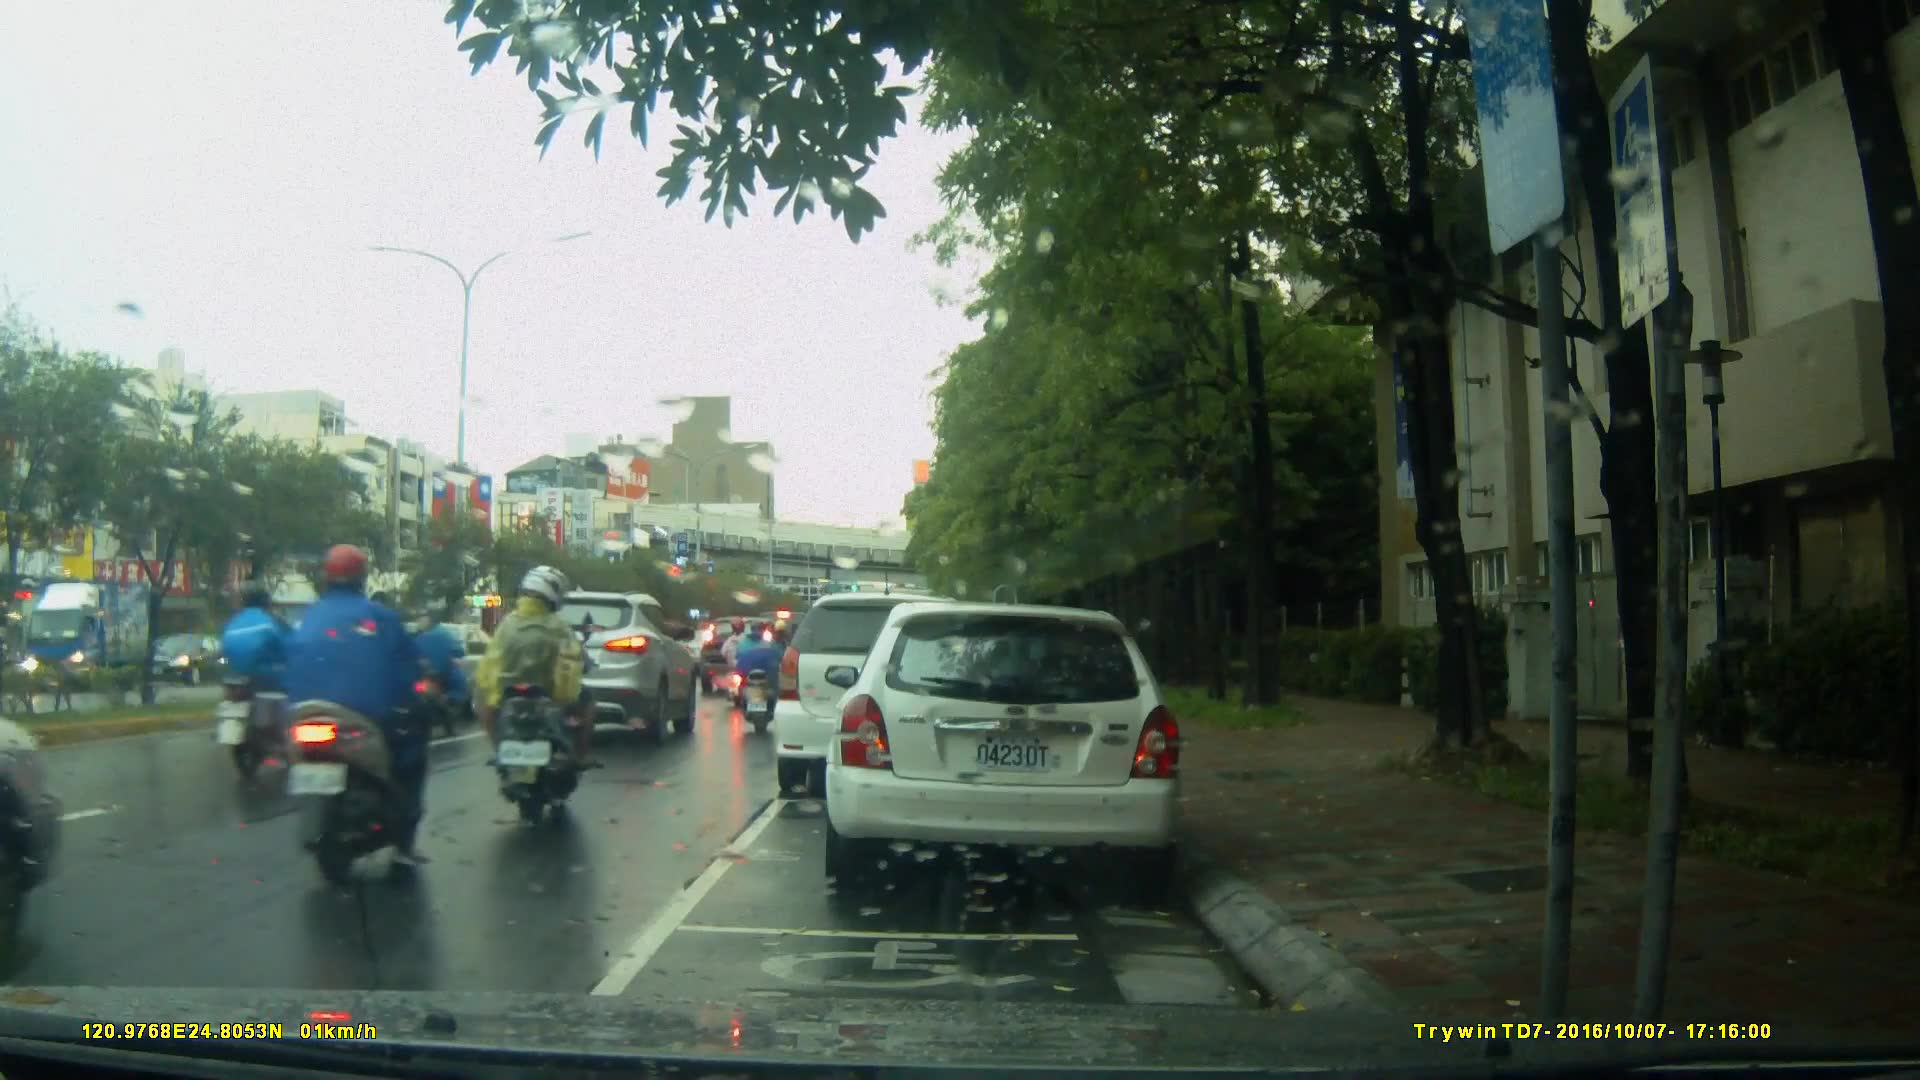rider: (271, 537, 432, 884), (479, 568, 598, 826), (219, 578, 306, 774), (392, 601, 480, 737), (733, 616, 787, 733), (722, 615, 761, 713), (768, 618, 800, 703)
vehicle: (822, 604, 1188, 883), (774, 595, 995, 802), (495, 589, 701, 747), (20, 576, 167, 697), (701, 615, 775, 699)
